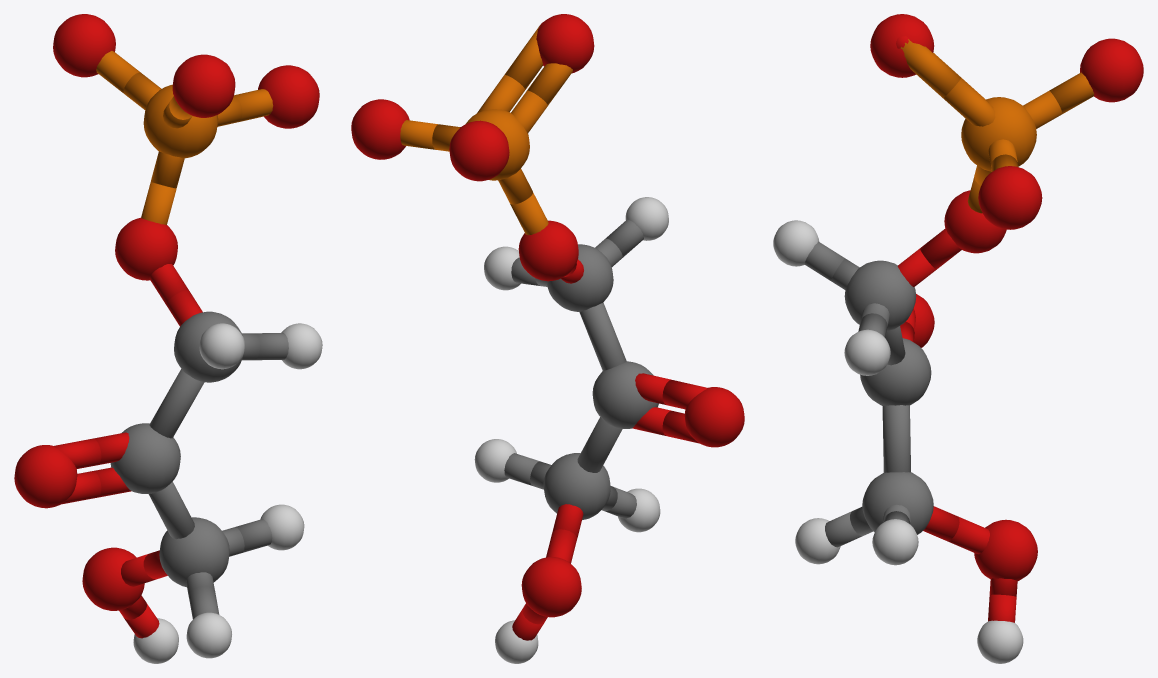
Rendered from dihydroxyacetone_phosphate.obj.
The picture shows the model from 3 angles, left to right: view 1: azimuth 30°, elevation 25°; view 2: azimuth 150°, elevation 25°; view 3: azimuth 270°, elevation 25°; orthographic projection. The views are drawn at different scales.
Parts seen in each view (by area): view 1: ShapeSphere.008_ShapeSphere.017, ShapeSphere.009_ShapeSphere.017, ShapeSphere.006_ShapeSphere.016, ShapeSphere.003_ShapeSphere.016, ShapeSphere.004_ShapeSphere.016, ShapeSphere.001_ShapeSphere.016, ShapeSphere_ShapeSphere.015, ShapeSphere.005_ShapeSphere.016, ShapeSphere.002_ShapeSphere.016, ShapeSphere.007_ShapeSphere.017, ShapeCylinder.005_ShapeCylinder.018, ShapeSphere.012_ShapeSphere.018 (+23 smaller); view 2: ShapeSphere.009_ShapeSphere.017, ShapeSphere.004_ShapeSphere.016, ShapeSphere.002_ShapeSphere.016, ShapeSphere.008_ShapeSphere.017, ShapeSphere.003_ShapeSphere.016, ShapeSphere.001_ShapeSphere.016, ShapeSphere.005_ShapeSphere.016, ShapeSphere.006_ShapeSphere.016, ShapeSphere.007_ShapeSphere.017, ShapeSphere_ShapeSphere.015, ShapeCylinder.005_ShapeCylinder.018, ShapeSphere.010_ShapeSphere.018 (+20 smaller); view 3: ShapeSphere.007_ShapeSphere.017, ShapeSphere.005_ShapeSphere.016, ShapeSphere_ShapeSphere.015, ShapeSphere.004_ShapeSphere.016, ShapeSphere.009_ShapeSphere.017, ShapeSphere.002_ShapeSphere.016, ShapeSphere.008_ShapeSphere.017, ShapeSphere.006_ShapeSphere.016, ShapeSphere.001_ShapeSphere.016, ShapeCylinder.002_ShapeCylinder.018, ShapeSphere.011_ShapeSphere.018, ShapeSphere.013_ShapeSphere.018 (+16 smaller).
Part boxes in pixels (x1,y1,x2,y2): ShapeSphere.008_ShapeSphere.017: [110, 423, 180, 493]; ShapeSphere.009_ShapeSphere.017: [159, 517, 229, 587]; ShapeSphere.006_ShapeSphere.016: [172, 54, 235, 117]; ShapeSphere.003_ShapeSphere.016: [14, 445, 77, 508]; ShapeSphere.004_ShapeSphere.016: [53, 14, 115, 77]; ShapeSphere.001_ShapeSphere.016: [115, 217, 177, 280]; ShapeSphere_ShapeSphere.015: [143, 84, 218, 158]; ShapeSphere.005_ShapeSphere.016: [258, 65, 319, 128]; ShapeSphere.002_ShapeSphere.016: [82, 547, 144, 610]; ShapeSphere.007_ShapeSphere.017: [174, 311, 242, 382]; ShapeCylinder.005_ShapeCylinder.018: [149, 369, 204, 438]; ShapeSphere.012_ShapeSphere.018: [186, 612, 231, 658]; ShapeSphere.009_ShapeSphere.017: [543, 453, 610, 519]; ShapeSphere.004_ShapeSphere.016: [449, 120, 509, 181]; ShapeSphere.002_ShapeSphere.016: [521, 557, 581, 617]; ShapeSphere.008_ShapeSphere.017: [592, 361, 658, 428]; ShapeSphere.003_ShapeSphere.016: [684, 387, 744, 447]; ShapeSphere.001_ShapeSphere.016: [518, 220, 578, 281]; ShapeSphere.005_ShapeSphere.016: [351, 99, 409, 159]; ShapeSphere.006_ShapeSphere.016: [536, 14, 594, 73]; ShapeSphere.007_ShapeSphere.017: [547, 244, 613, 311]; ShapeSphere_ShapeSphere.015: [465, 109, 529, 180]; ShapeCylinder.005_ShapeCylinder.018: [579, 302, 626, 370]; ShapeSphere.010_ShapeSphere.018: [625, 197, 668, 240]; ShapeSphere.007_ShapeSphere.017: [844, 260, 916, 330]; ShapeSphere.005_ShapeSphere.016: [978, 166, 1042, 229]; ShapeSphere_ShapeSphere.015: [961, 97, 1036, 171]; ShapeSphere.004_ShapeSphere.016: [1080, 38, 1143, 102]; ShapeSphere.009_ShapeSphere.017: [862, 472, 933, 534]; ShapeSphere.002_ShapeSphere.016: [974, 519, 1037, 580]; ShapeSphere.008_ShapeSphere.017: [860, 338, 931, 405]; ShapeSphere.006_ShapeSphere.016: [870, 14, 934, 77]; ShapeSphere.001_ShapeSphere.016: [944, 190, 1006, 253]; ShapeCylinder.002_ShapeCylinder.018: [882, 405, 910, 472]; ShapeSphere.011_ShapeSphere.018: [844, 329, 890, 375]; ShapeSphere.013_ShapeSphere.018: [872, 519, 918, 565].
Bounding box in the file's own units: 4.46 × 7.77 × 4.05.
